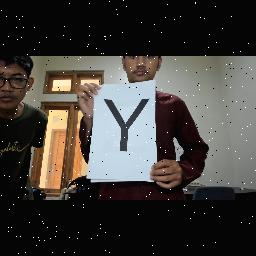y: (101, 96, 151, 154)
